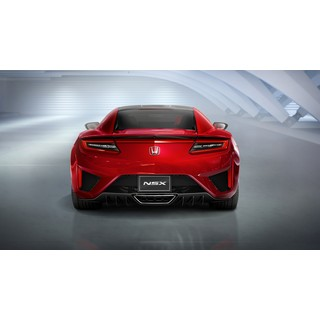car: (68, 104, 243, 215)
